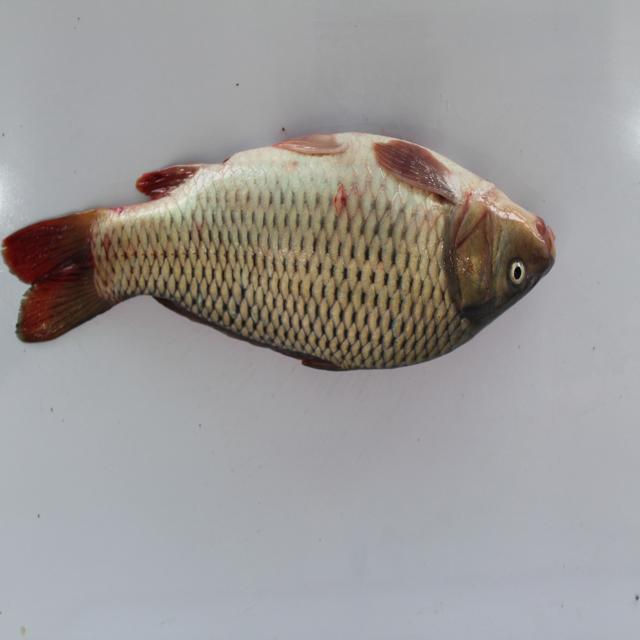CommonCarp: (2, 118, 573, 383)
